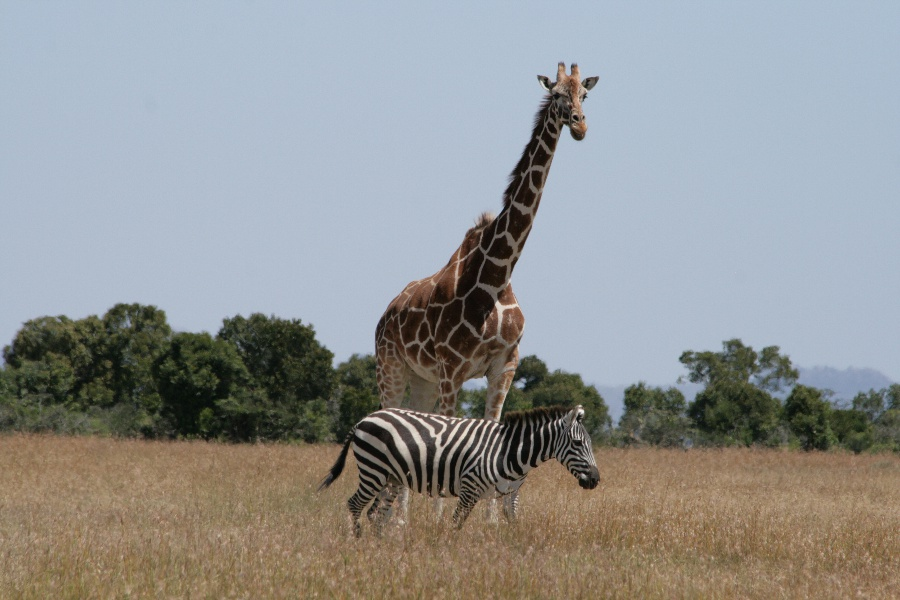giraffe: (365, 57, 605, 412)
